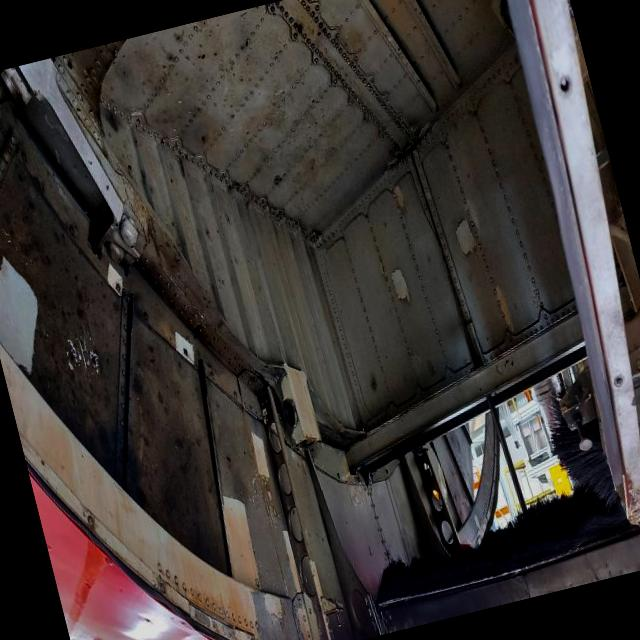Missing Fastener: (547, 55, 583, 121), (605, 357, 633, 400)
